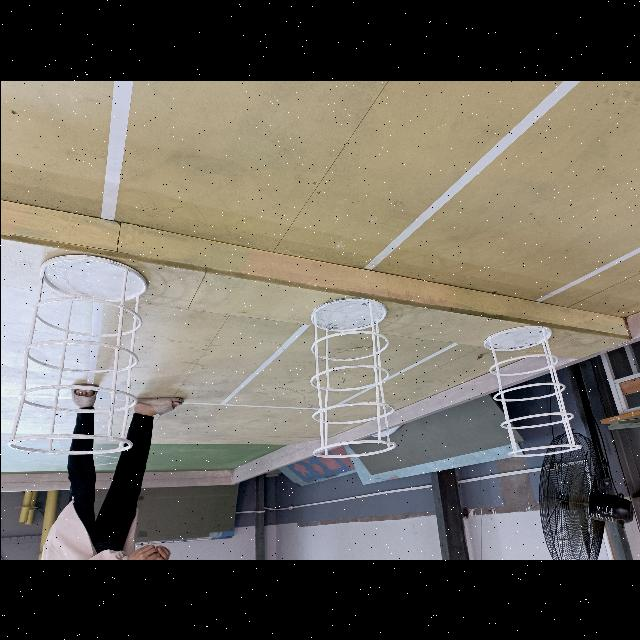S: (4, 250, 150, 458), (306, 296, 396, 459), (481, 323, 584, 458)
